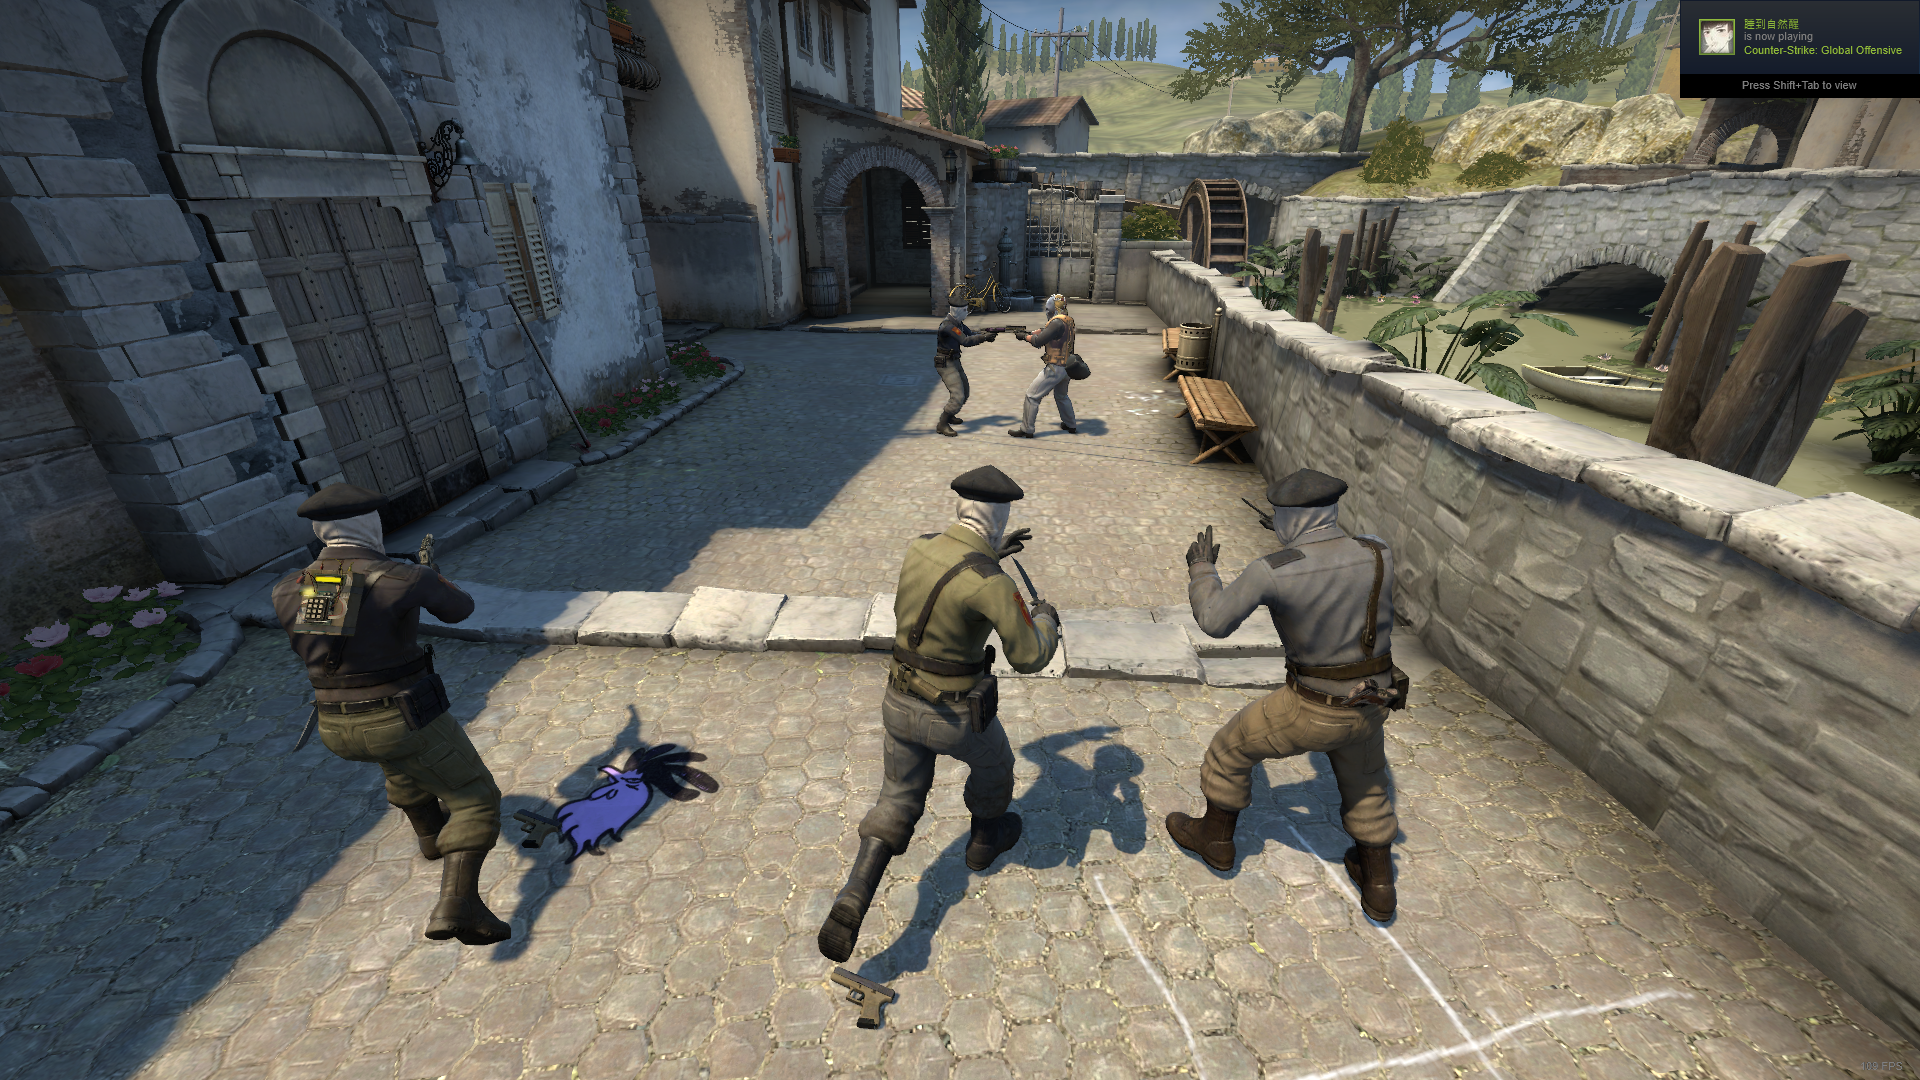t: (819, 463, 1063, 955), (272, 483, 513, 949), (1168, 471, 1404, 923), (934, 297, 996, 435)
